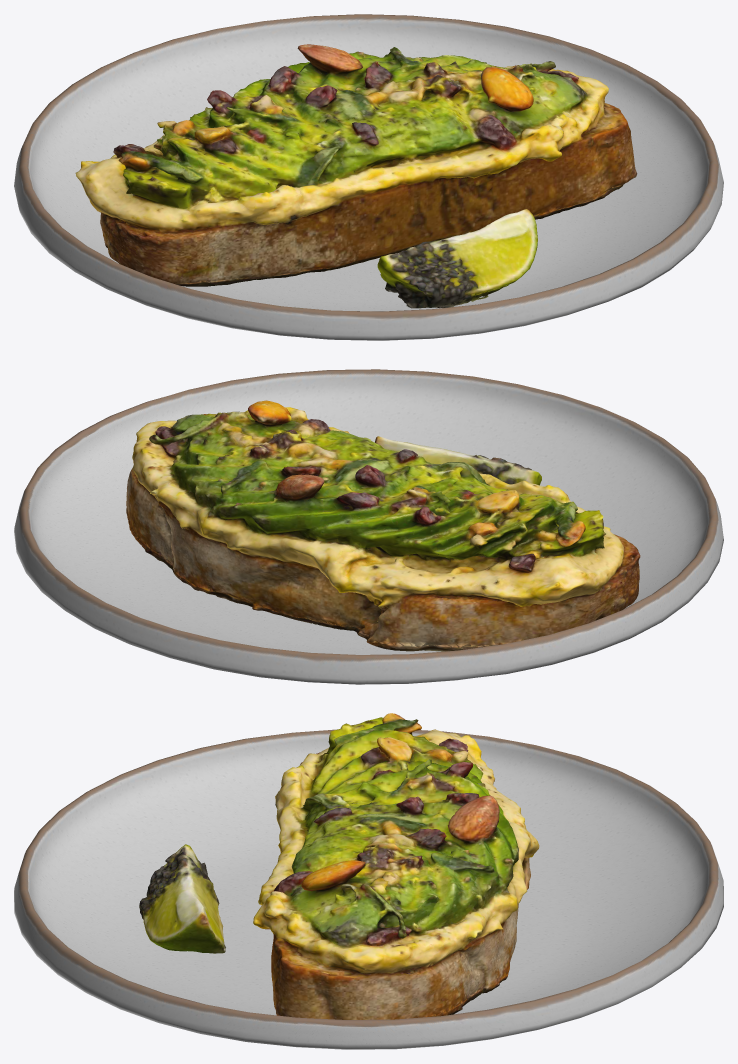
File: dish2.glb
3 renders of one model, top to bottom at view 1: azimuth 30°, elevation 25°; view 2: azimuth 150°, elevation 25°; view 3: azimuth 270°, elevation 25°, orthographic.
Parts seen in each view (by area): view 1: Comida, plato1; view 2: plato1, Comida; view 3: plato1, Comida.
Boxes of the visible parts, <box> form: Comida: <box>75,44,637,308</box>; plato1: <box>14,14,723,340</box>; plato1: <box>14,369,723,684</box>; Comida: <box>126,400,640,651</box>; plato1: <box>14,729,723,1049</box>; Comida: <box>139,713,539,1019</box>.
Size of the model in its own units: 0.2483 by 0.0556 by 0.2483.
2 materials, 2 textured.
